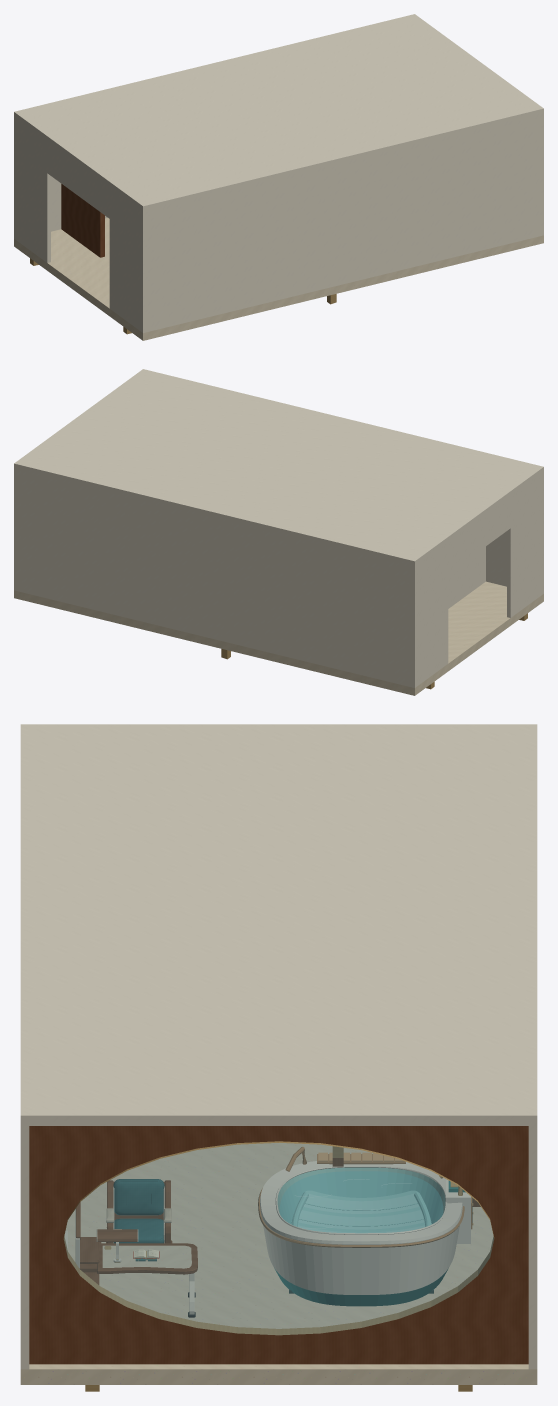
The model's file is StarAtlasSpecialty_485_Production.glb.
3 views of the same model, one above another, from view 1: azimuth 30°, elevation 25°; view 2: azimuth 150°, elevation 25°; view 3: azimuth 270°, elevation 25° (orthographic). The views are drawn at different scales.
Parts seen in each view (by area): view 1: SA485_Ceiling, SA485_SouthSide, SA485_RoomFloor, SA485_EntryShoulderNorth, SA485_EntryShoulderSouth, SA485_EntryHeader, SA485_EntryPrivacyDogleg, SA485_NorthSide; view 2: SA485_Ceiling, SA485_NorthSide, SA485_RoomFloor, SA485_EntryShoulderSouth, SA485_EntryShoulderNorth, SA485_EntryHeader, SA485_WashEntrySide, SA485_SouthSide; view 3: SA485_Ceiling, SA485_OvalAtriumGlass, SA485_OvalWindowReveal, SA485_RoomFloor, SA485_ReservedRestSupport__Hollow continuous basin shell wit, SA485_ReservedRestSupport__WaterSurface_VisualOnly, SA485_ReservedRestSupport__Contoured broad immersed rest sup, SA485_OvalDepthReturn, SA485_NorthSide, SA485_SouthSide, SA485_DayReadingChair__DAY_CHAIR_single_reclined_back_cushio, SA485_LibraryStudyEdge__SINGLE_inset_stone_writing_surface (+4 smaller).
Part boxes in pixels (bbox=[...]): SA485_Ceiling: bbox=[14, 14, 543, 211]; SA485_SouthSide: bbox=[141, 114, 543, 332]; SA485_RoomFloor: bbox=[14, 218, 543, 340]; SA485_EntryShoulderNorth: bbox=[16, 119, 50, 262]; SA485_EntryShoulderSouth: bbox=[109, 188, 140, 331]; SA485_EntryHeader: bbox=[46, 141, 110, 219]; SA485_EntryPrivacyDogleg: bbox=[61, 184, 104, 257]; SA485_NorthSide: bbox=[14, 117, 107, 239]; SA485_Ceiling: bbox=[14, 369, 543, 566]; SA485_NorthSide: bbox=[14, 469, 416, 687]; SA485_RoomFloor: bbox=[14, 581, 543, 695]; SA485_EntryShoulderSouth: bbox=[507, 474, 541, 617]; SA485_EntryShoulderNorth: bbox=[417, 542, 448, 686]; SA485_EntryHeader: bbox=[448, 496, 511, 573]; SA485_WashEntrySide: bbox=[448, 546, 485, 608]; SA485_SouthSide: bbox=[486, 472, 543, 594]; SA485_Ceiling: bbox=[20, 724, 537, 1125]; SA485_OvalAtriumGlass: bbox=[64, 1143, 493, 1334]; SA485_OvalWindowReveal: bbox=[29, 1126, 528, 1364]; SA485_RoomFloor: bbox=[20, 1143, 537, 1384]; SA485_ReservedRestSupport__Hollow continuous basin shell wit: bbox=[260, 1161, 462, 1306]; SA485_ReservedRestSupport__WaterSurface_VisualOnly: bbox=[280, 1171, 442, 1232]; SA485_ReservedRestSupport__Contoured broad immersed rest sup: bbox=[298, 1191, 424, 1232]; SA485_OvalDepthReturn: bbox=[63, 1141, 494, 1335]; SA485_NorthSide: bbox=[528, 1126, 537, 1369]; SA485_SouthSide: bbox=[20, 1126, 29, 1369]; SA485_DayReadingChair__DAY_CHAIR_single_reclined_back_cushio: bbox=[113, 1179, 164, 1214]; SA485_LibraryStudyEdge__SINGLE_inset_stone_writing_surface: bbox=[102, 1245, 191, 1268].
Bounding box in the file's own units: 12.9 × 4.91 × 7.2.
Materials: 61 (43 with a texture image).
